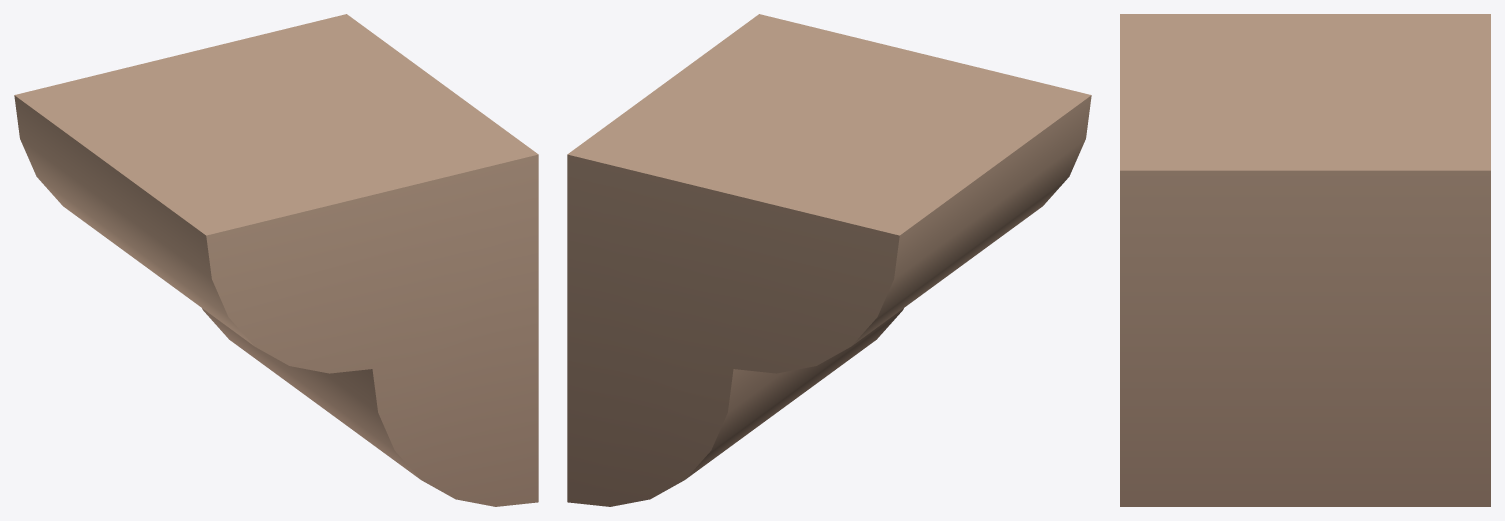
Rendered from corner-large-c.glb.
3 views of the same model, side by side, from view 1: azimuth 30°, elevation 25°; view 2: azimuth 150°, elevation 25°; view 3: azimuth 270°, elevation 25° (orthographic). The views are drawn at different scales.
Visible parts, largest first — view 1: corner-large-c; view 2: corner-large-c; view 3: corner-large-c.
Part boxes in pixels (x1,y1,x2,y2): corner-large-c: [14, 14, 538, 506]; corner-large-c: [567, 14, 1091, 506]; corner-large-c: [1120, 14, 1490, 506].
Bounding box in the file's own units: 0.2 × 0.2 × 0.2.
